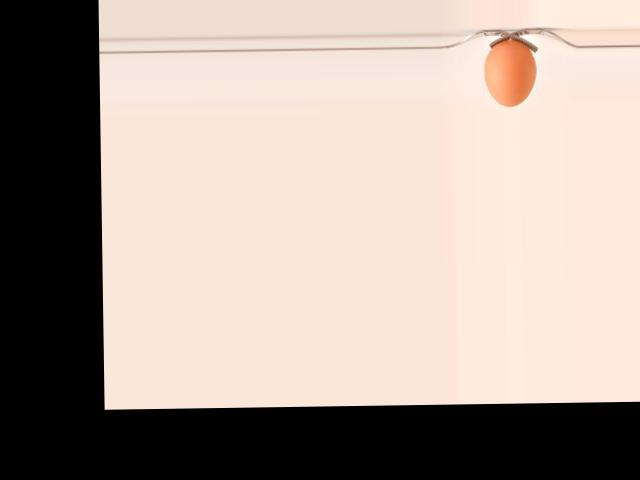egg: (483, 39, 536, 106)
